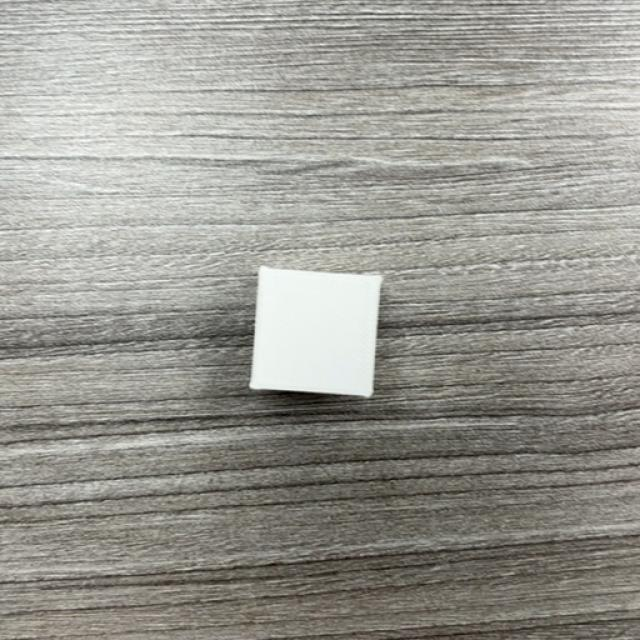Blanco: (249, 268, 382, 399)
